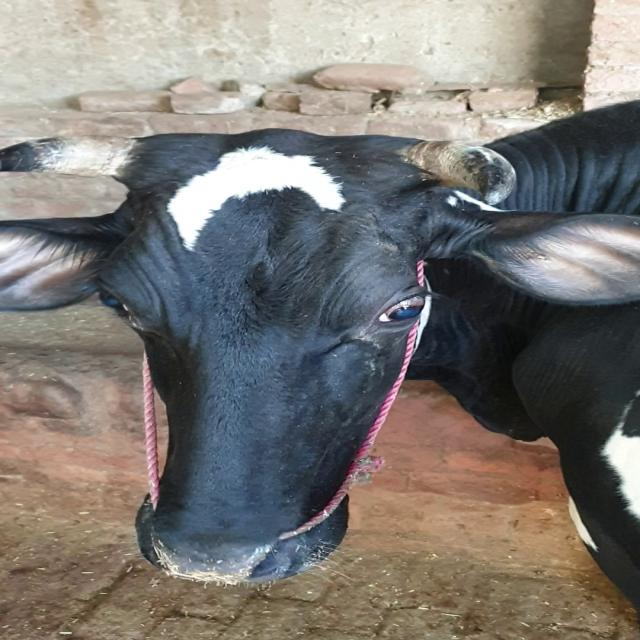cowFace: (78, 122, 409, 572)
